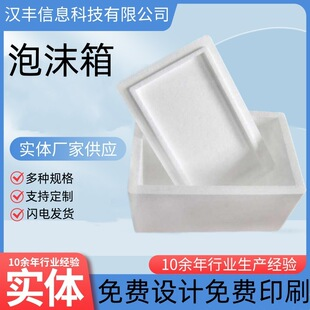Boxes: (123, 39, 303, 231)
